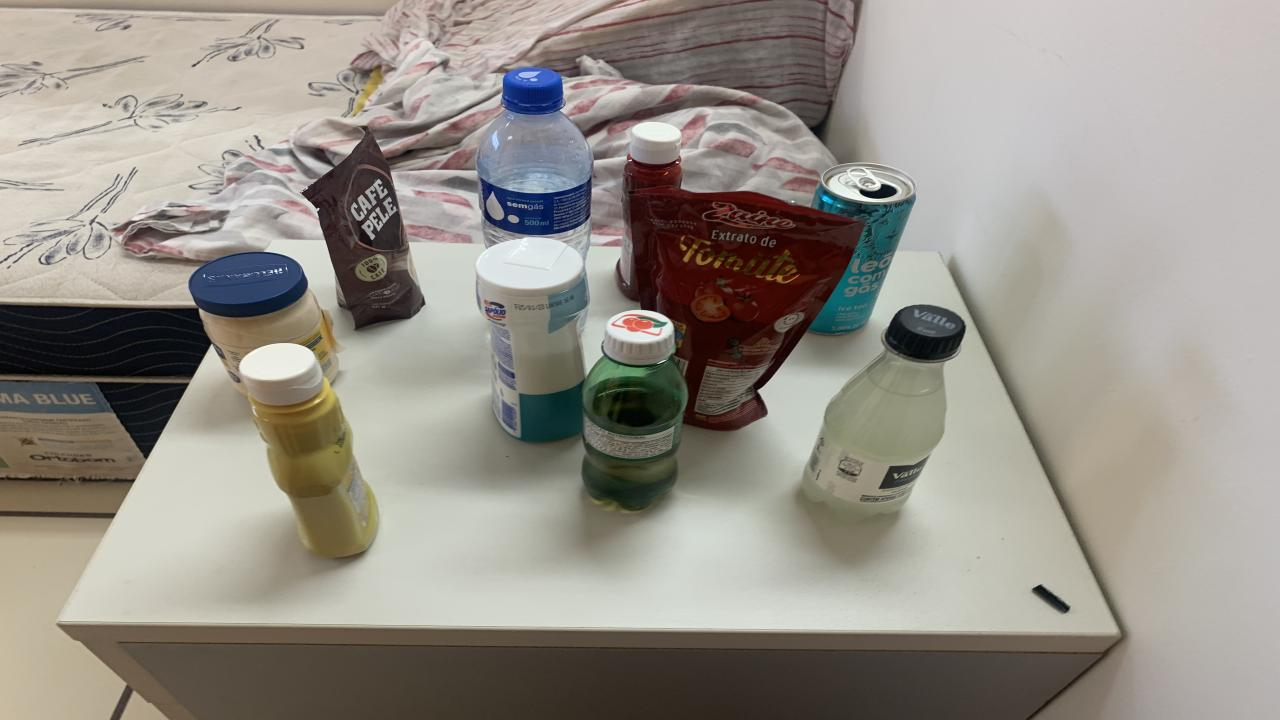Cleaner-Cleanup_Items: (475, 238, 590, 442)
Coffee-Pantry_Items: (302, 129, 422, 328)
Guarana-Drinks: (582, 309, 688, 512)
Ketchup-Pantry_Items: (618, 122, 682, 300)
Mayonnaise-Pantry_Items: (190, 251, 338, 394)
Mustard-Pantry_Items: (240, 343, 378, 559)
Soda-Drinks: (802, 304, 965, 519)
Tea-Drinks: (810, 163, 915, 334)
Tomato_Sauce-Pantry_Items: (630, 186, 862, 429)
Water_Bottle-Drinks: (475, 68, 592, 259)
